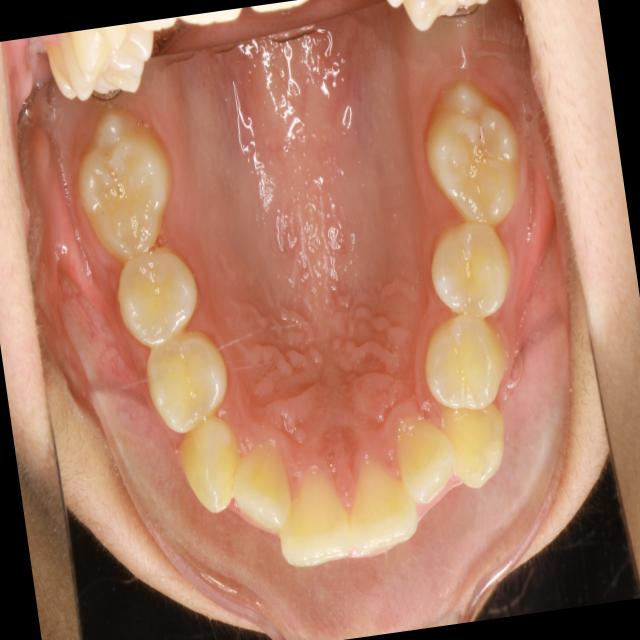tooth: (55, 88, 186, 270), (408, 64, 541, 242), (420, 207, 523, 337), (134, 324, 241, 443), (104, 235, 210, 355), (413, 300, 516, 420), (265, 456, 361, 582), (336, 445, 425, 560), (167, 408, 254, 522), (223, 424, 301, 541), (434, 390, 517, 499), (386, 405, 464, 514)
